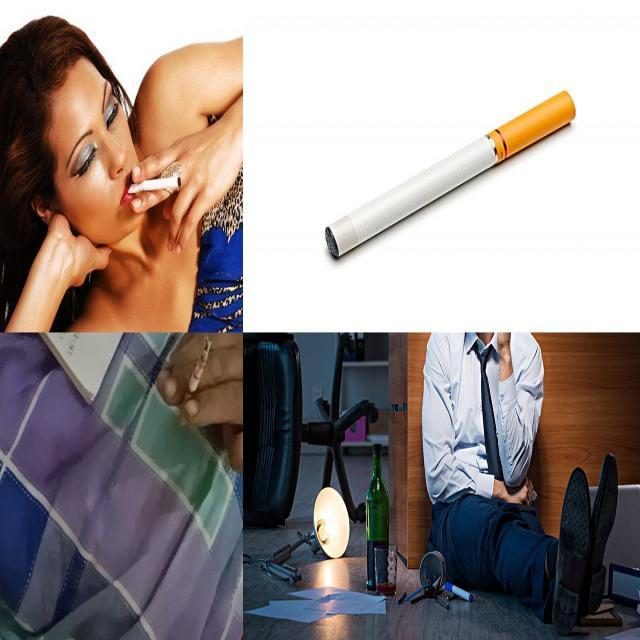cigarette: (324, 90, 579, 258), (179, 337, 213, 427), (128, 175, 180, 192)
